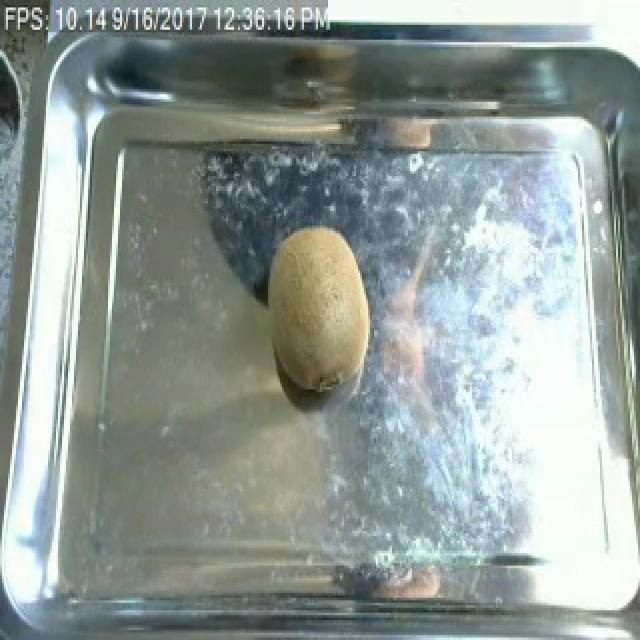Fruit: (254, 216, 380, 404)
